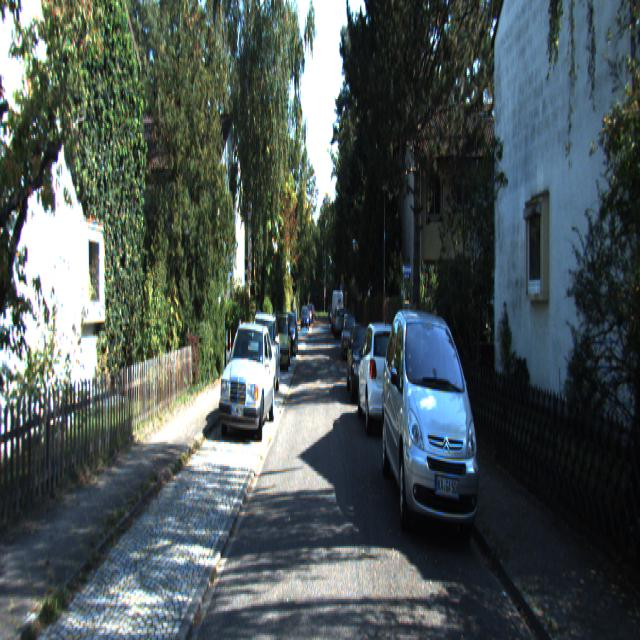Car: (382, 303, 484, 550), (217, 318, 275, 446), (355, 314, 407, 437), (345, 311, 382, 401), (271, 310, 291, 371), (341, 311, 360, 360)
